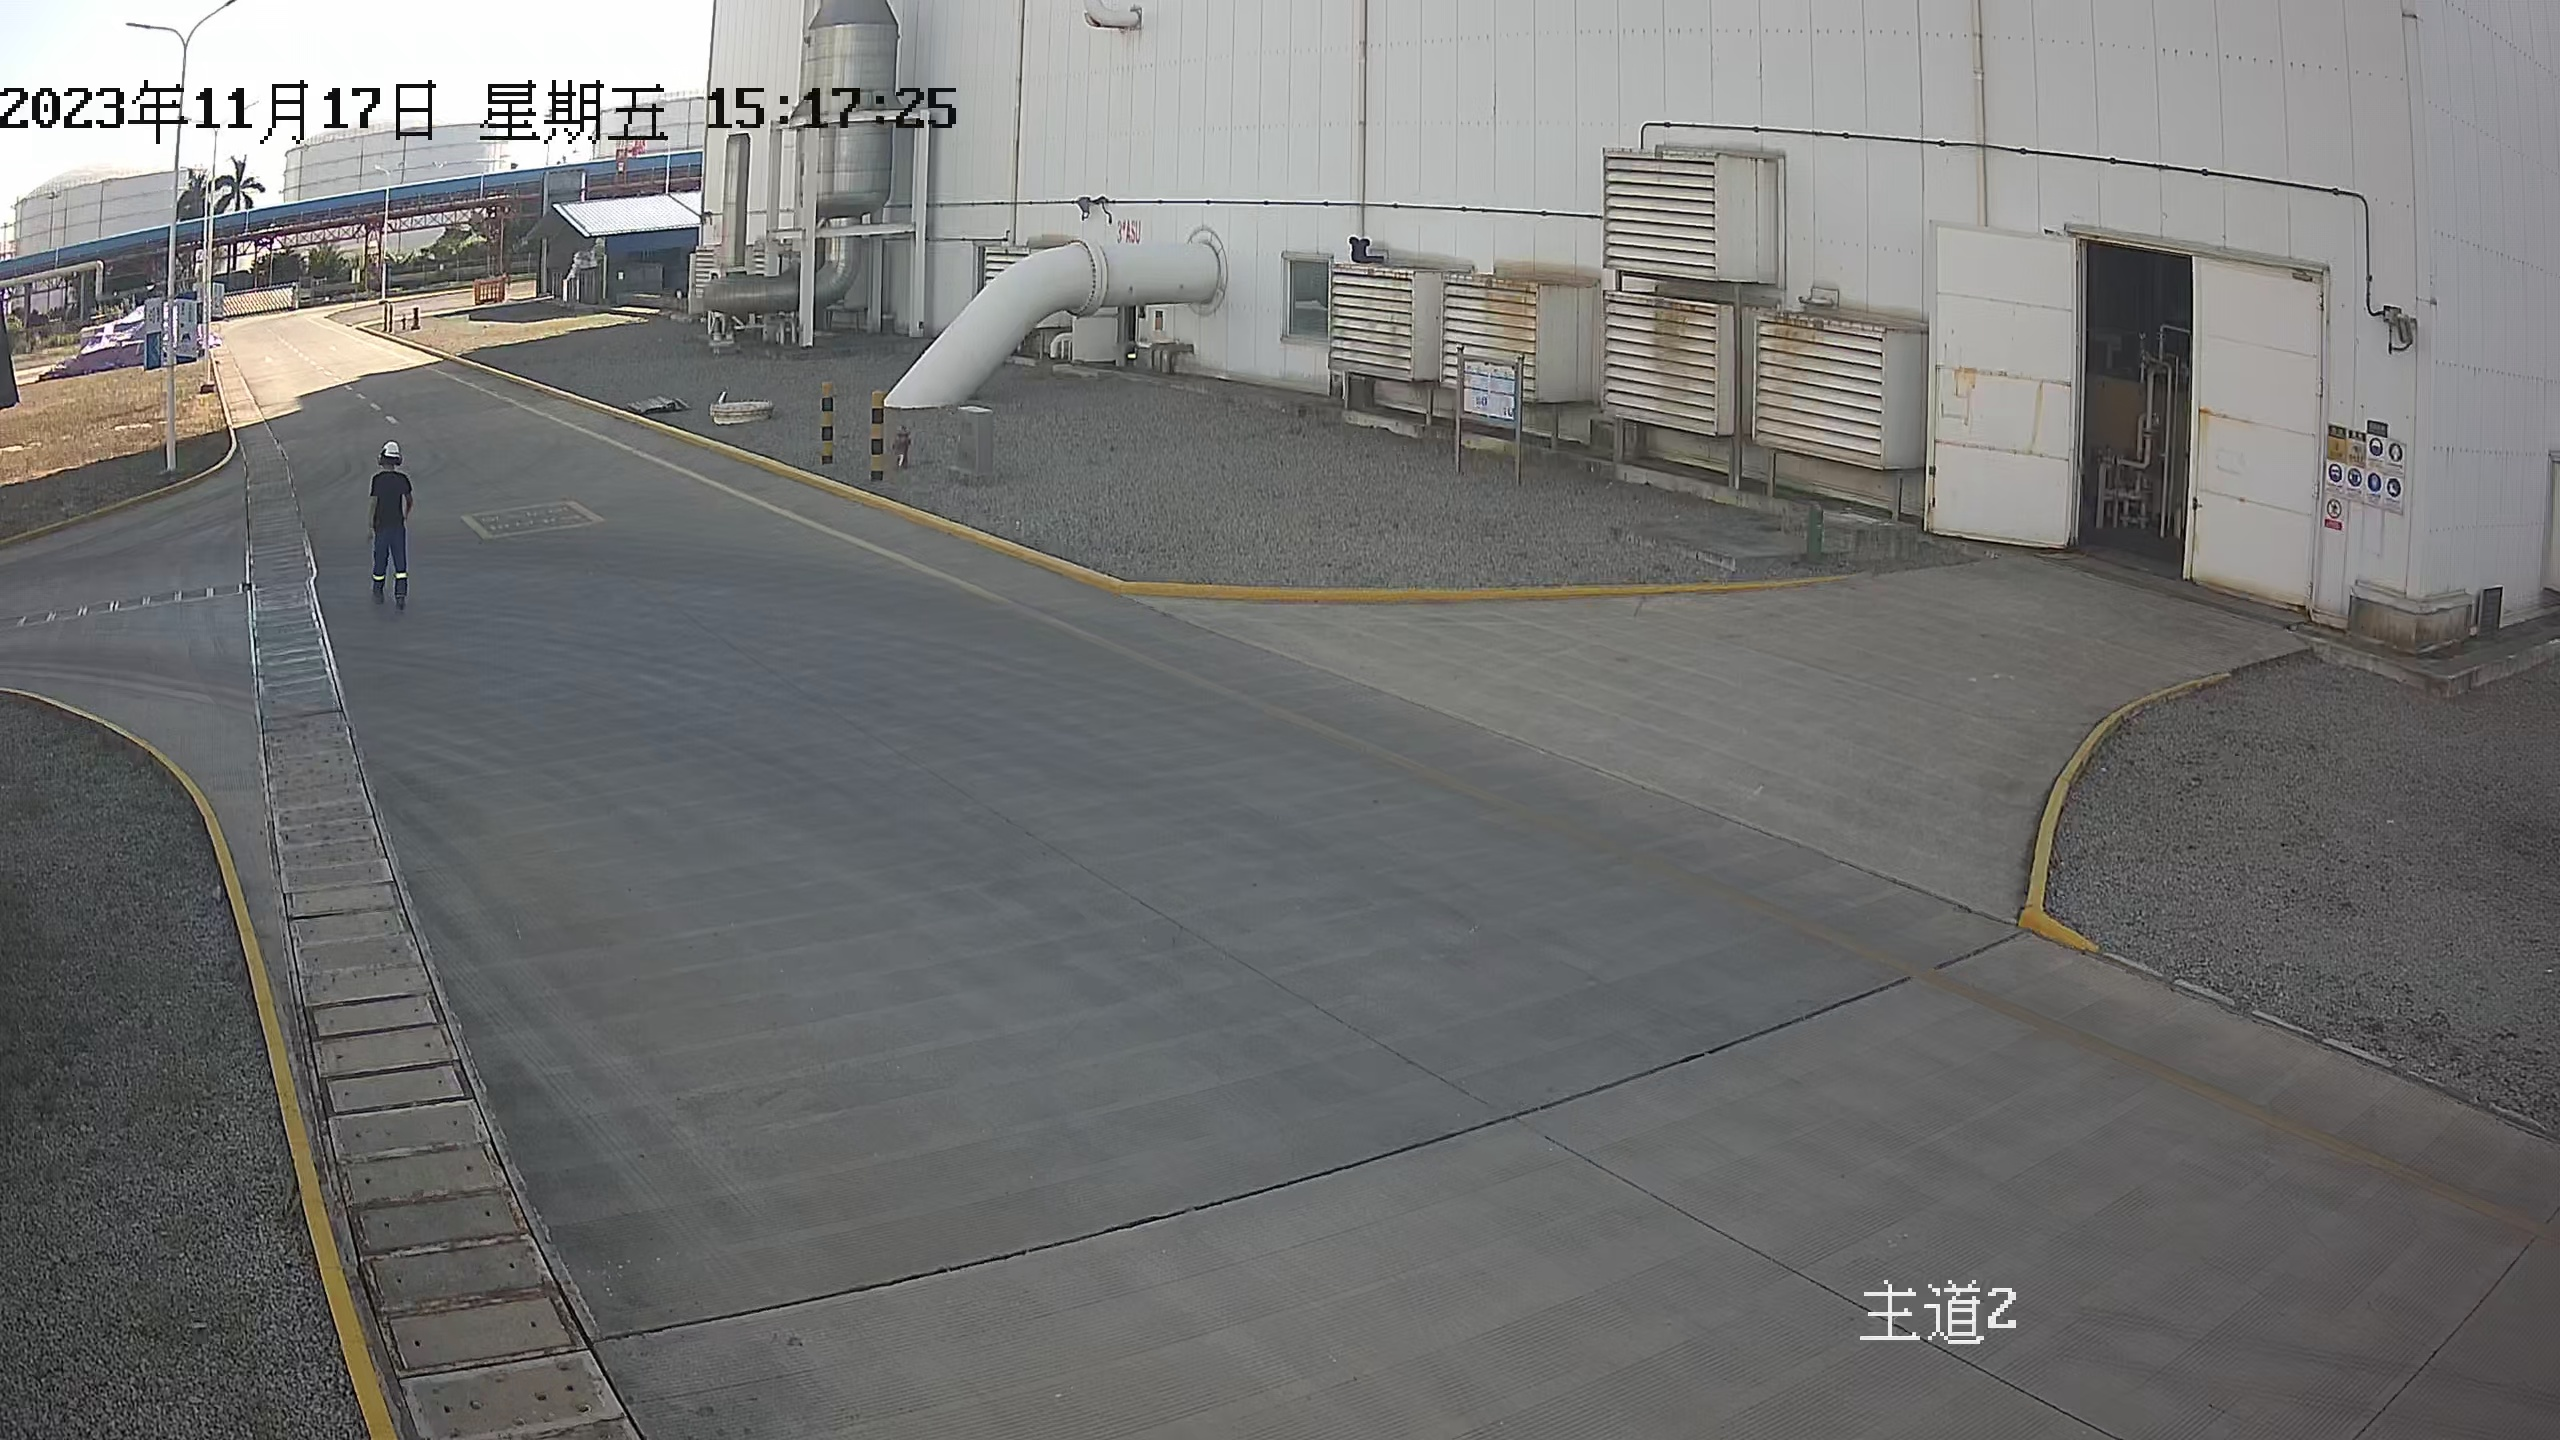Body_without_uniform: (350, 467, 424, 623)
Head_with_Helmet: (362, 437, 412, 473)
